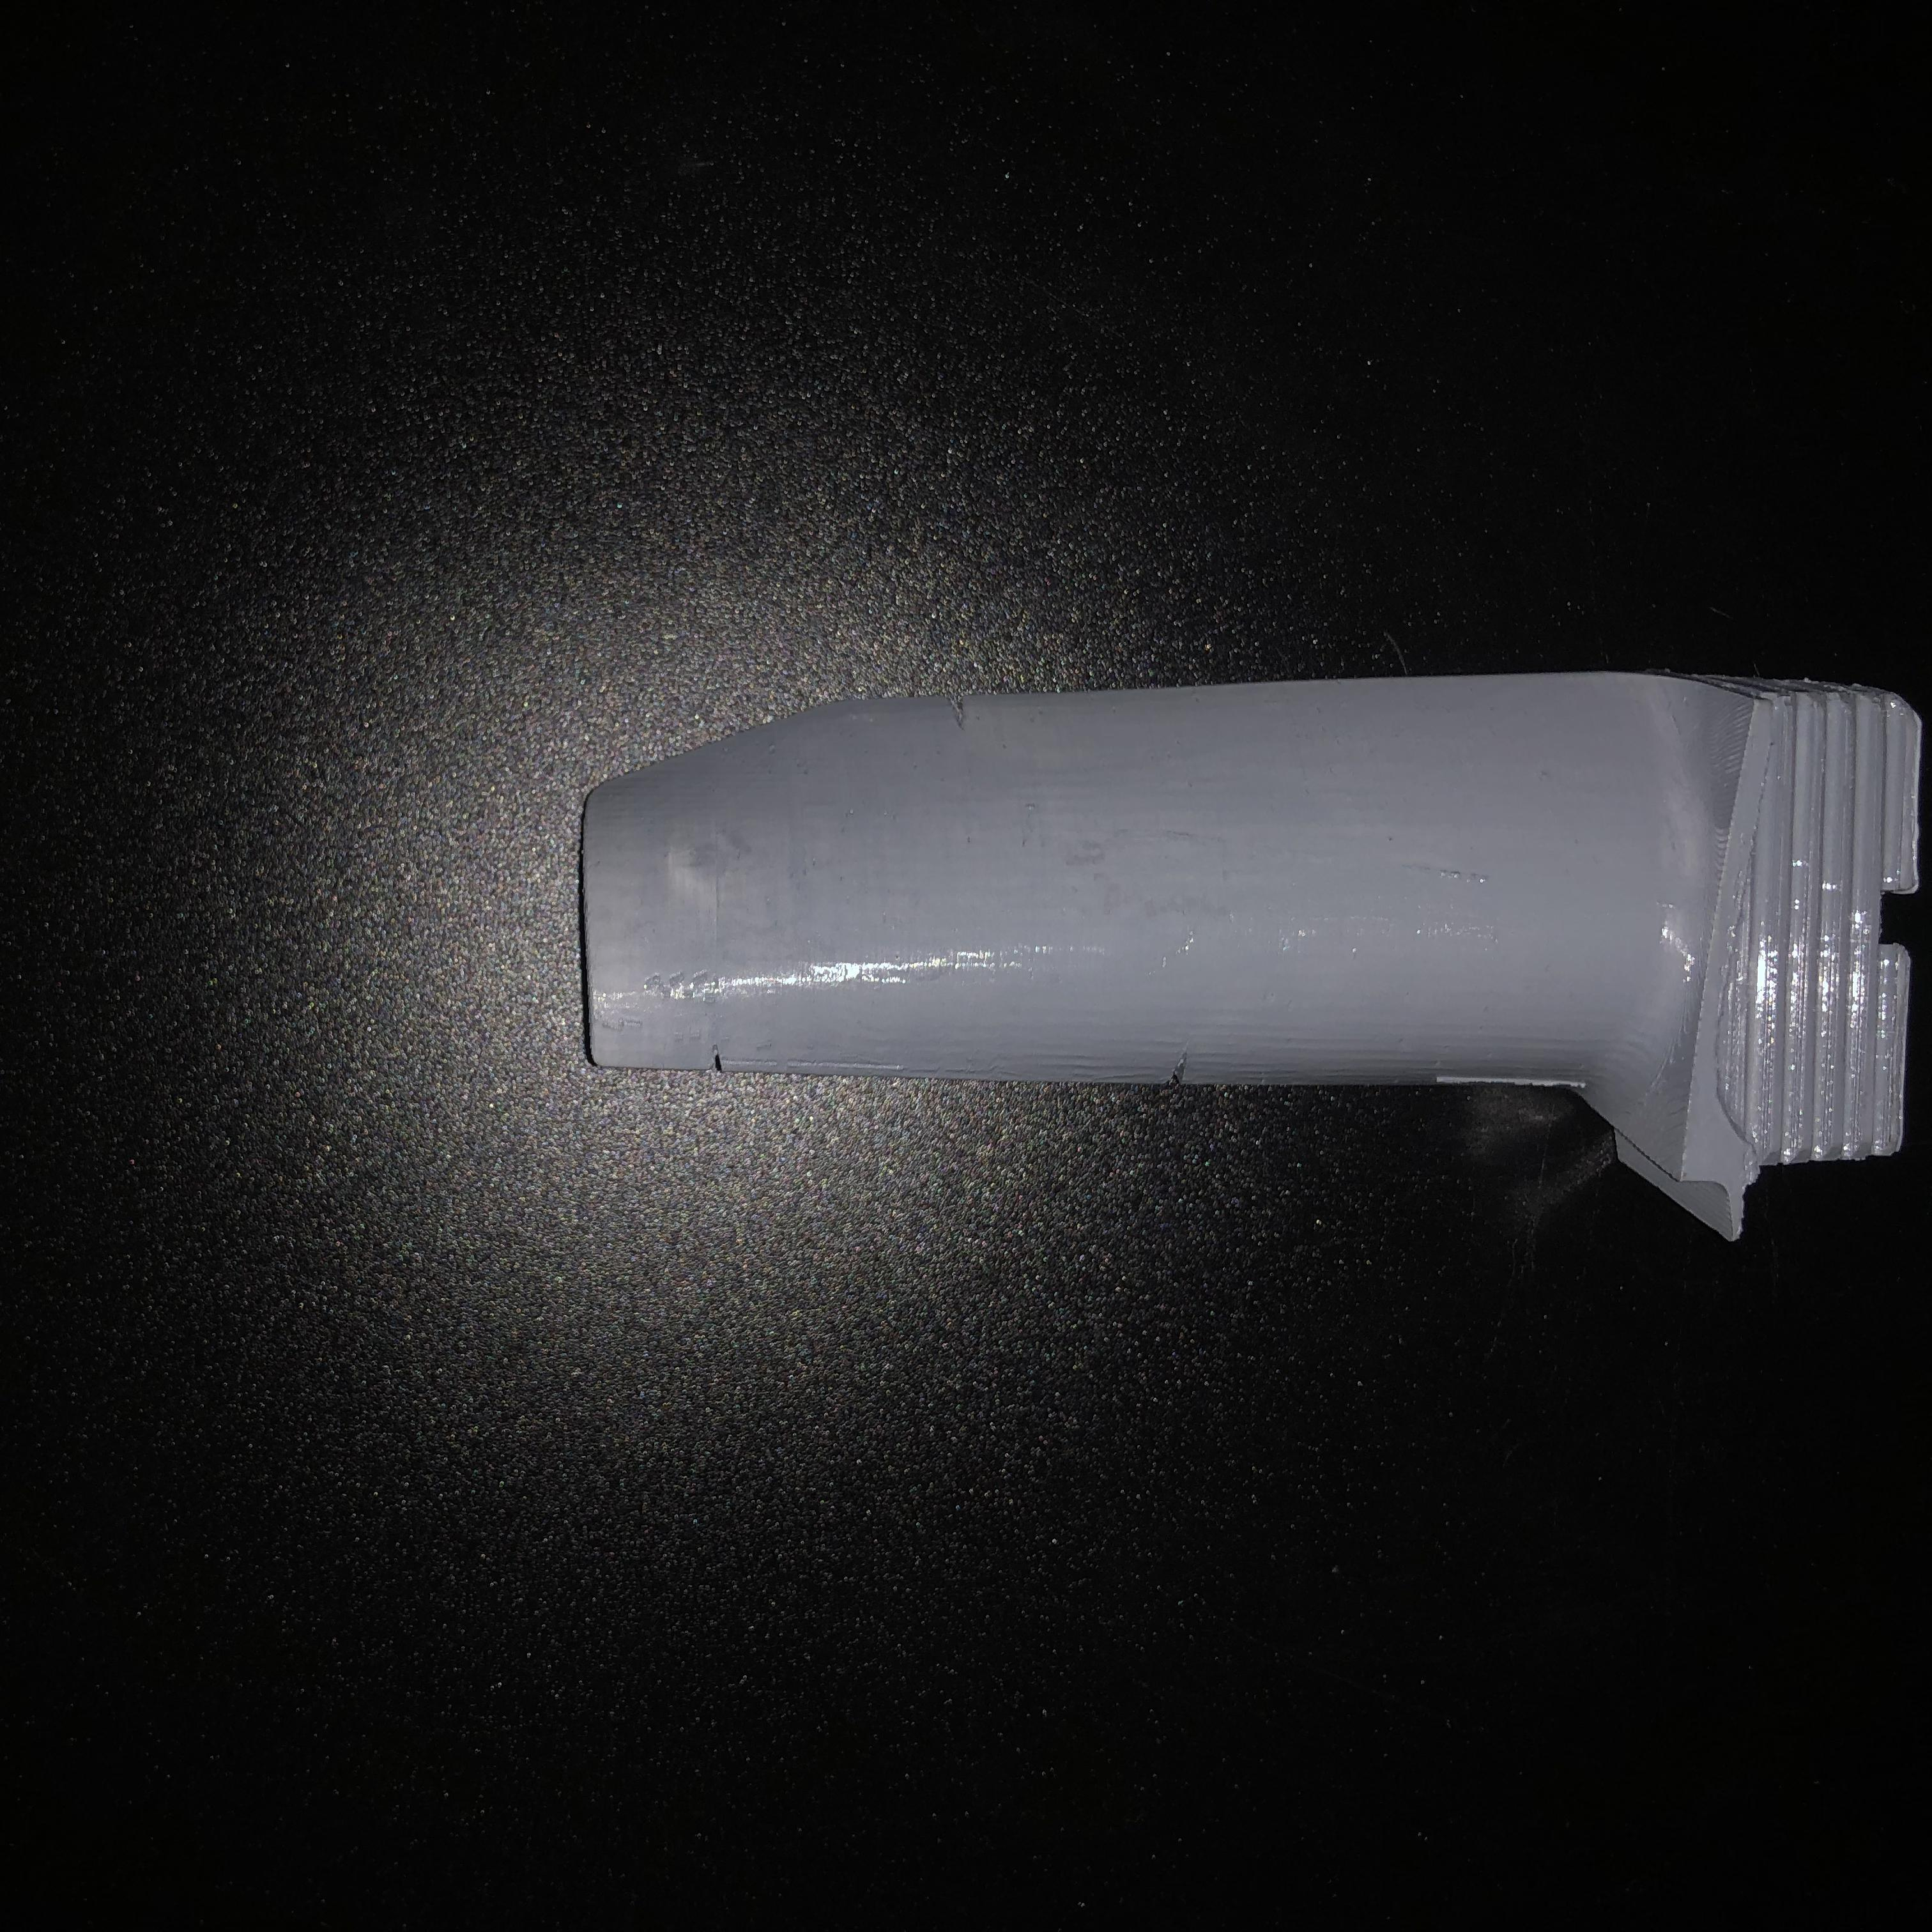groove: (1166, 1051, 1212, 1088), (708, 1046, 754, 1079), (941, 701, 984, 729)
